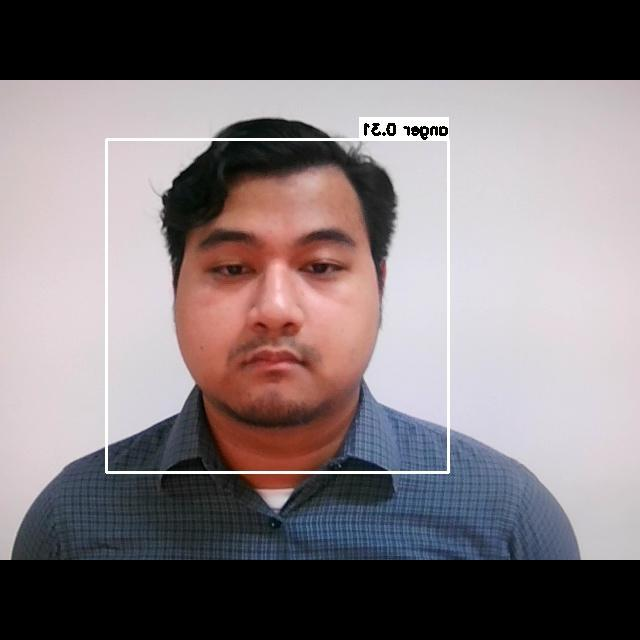Natural: (180, 202, 381, 394)
